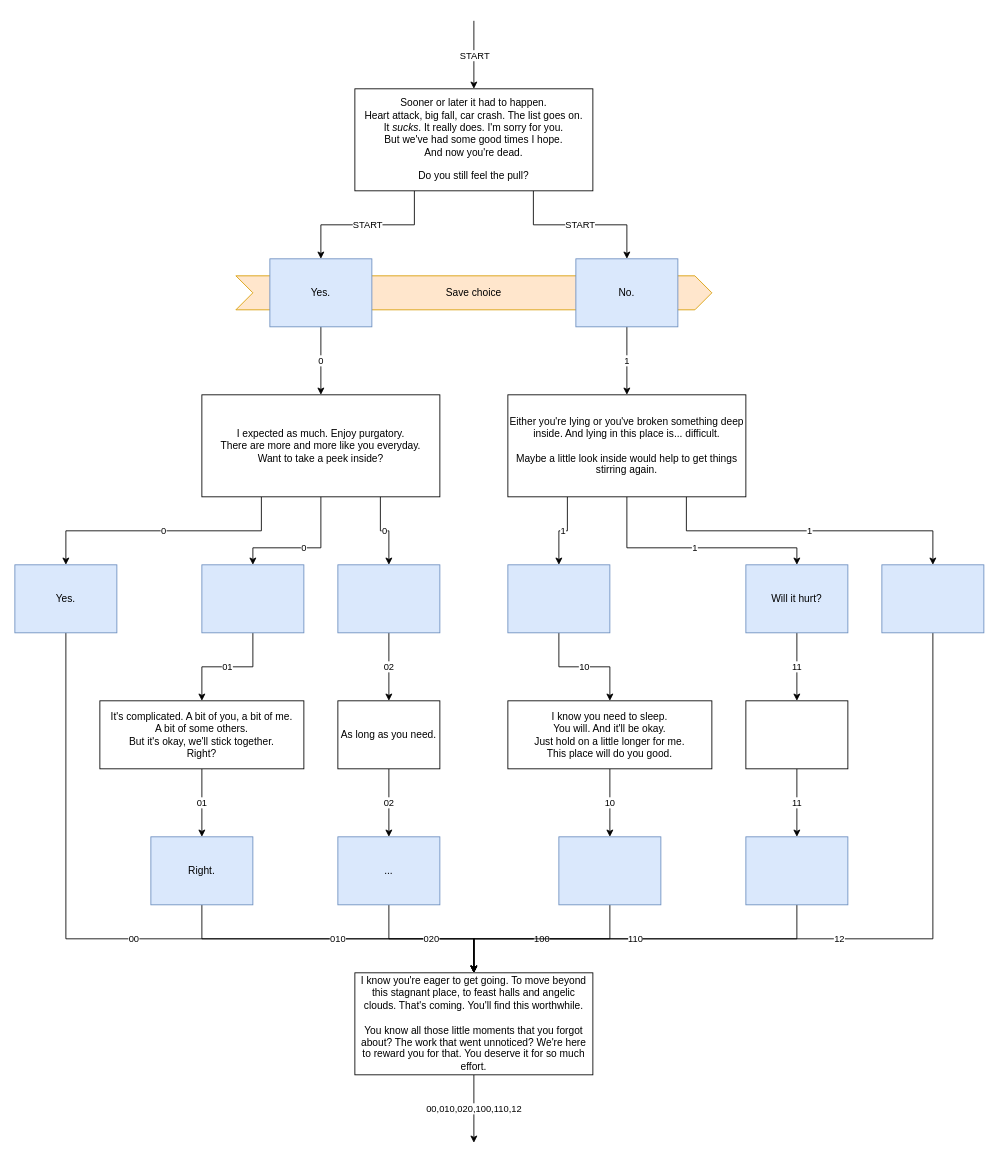
Image size: 999x1165. Some labels were removed from this diagram. The shapes that lost their labels are listed below. From the top down, each one's centre as x and y in pixels, then its label:
At pixel 252 598: "What's inside?".
At pixel 388 598: "How long do I have to be here?".
At pixel 558 598: "I can't go back.".
At pixel 932 598: "Let me in.".
At pixel 796 734: "A lot.".
At pixel 609 870: "Okay.".
At pixel 796 870: "Bring it on.".
